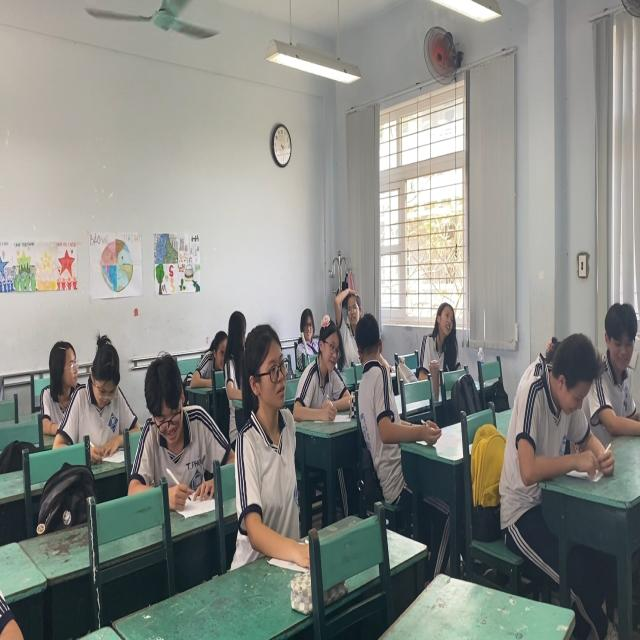cheating: (352, 305, 405, 460)
not_cheating: (243, 322, 310, 536), (508, 330, 596, 468), (132, 350, 200, 522), (70, 316, 138, 460), (593, 298, 640, 433), (39, 326, 84, 419), (312, 323, 348, 434), (419, 302, 465, 378), (222, 308, 244, 391), (199, 323, 226, 384), (335, 277, 358, 333), (296, 308, 317, 354)
